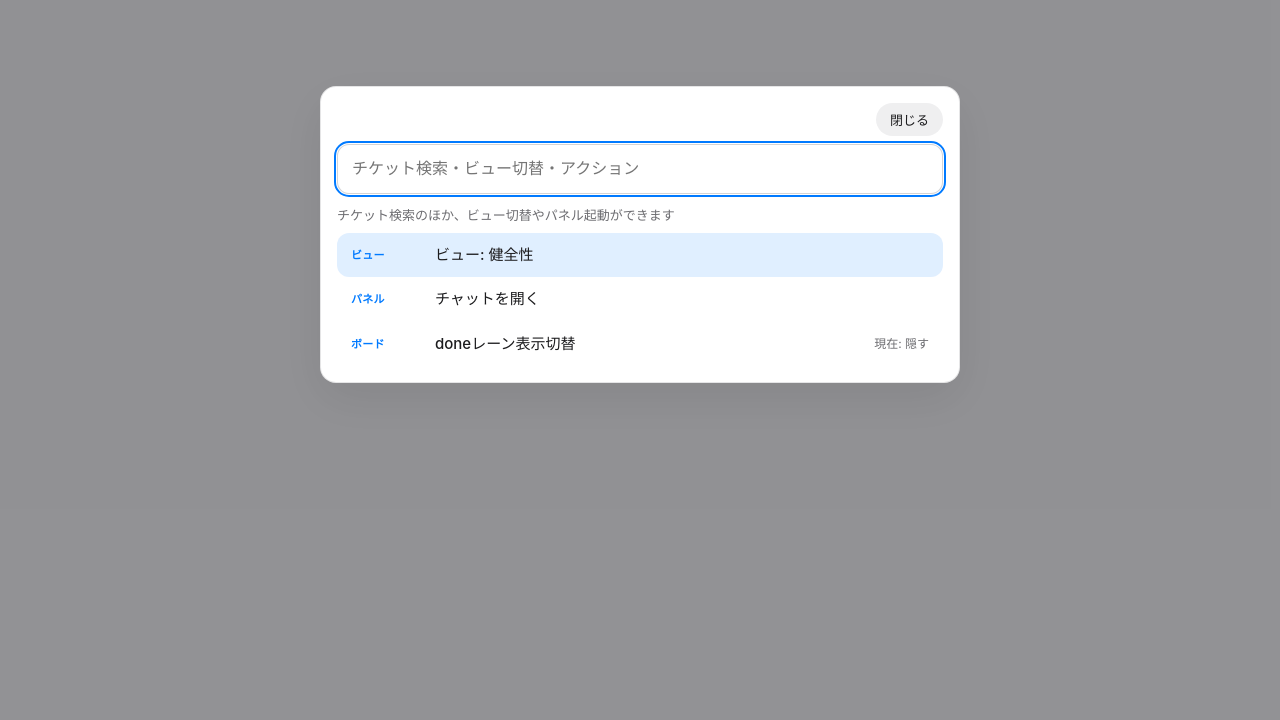
it: SearchPalette › shows ticket results after debounced search input
The image size is (1280, 720).
Step 1. Type "alpha" into the search field named "検索クエリ" → (640, 169), box [337,144,943,194]
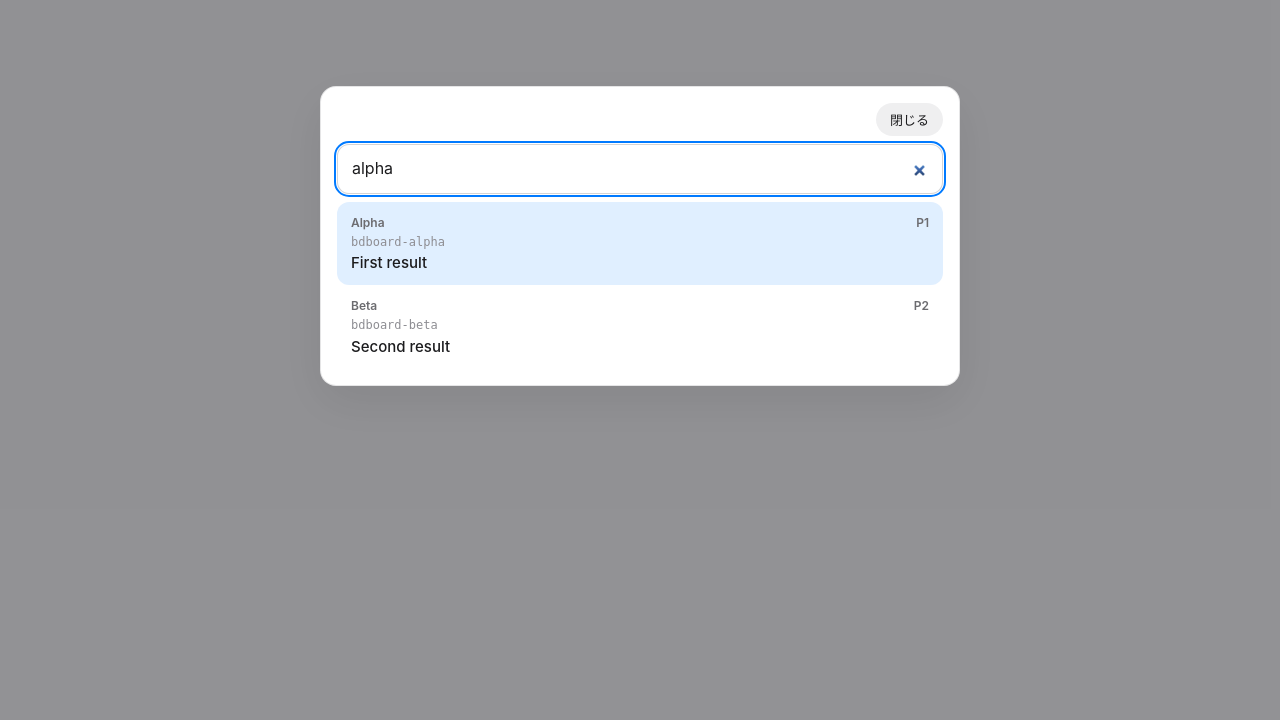
expect the text "First result" is shown: met, box [351,253,427,272]
expect the text "Alpha" is shown: met, box [351,215,385,230]
expect the text "bdboard-alpha" is shown: met, box [351,234,445,248]
